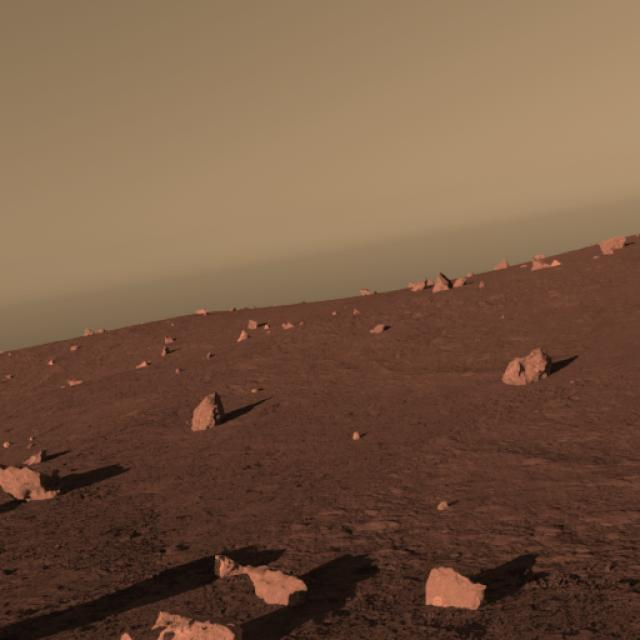rock: (208, 546, 300, 628), (417, 561, 489, 617), (496, 341, 560, 389)
